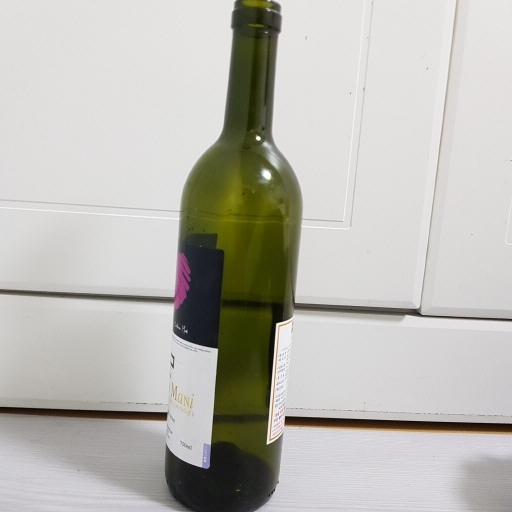Glass_2: (158, 1, 305, 512)
